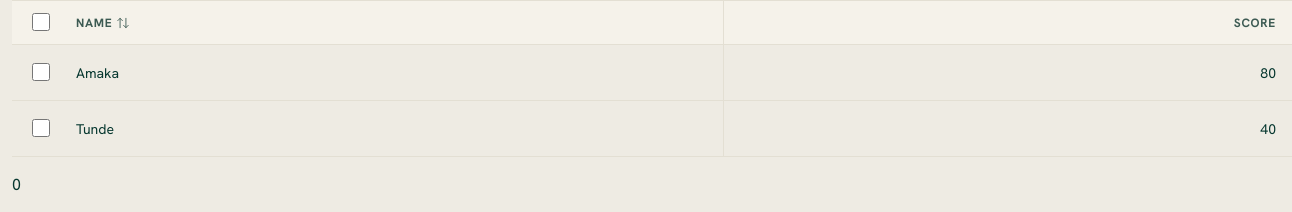
Test: DataTable › selects one row, every row, and none, with labelled tick boxes
What coordinates should you click on to do the following:
click the checkbox named "Select Amaka"
I would click on:
 (41, 72)
Its box is [32,62,50,80].
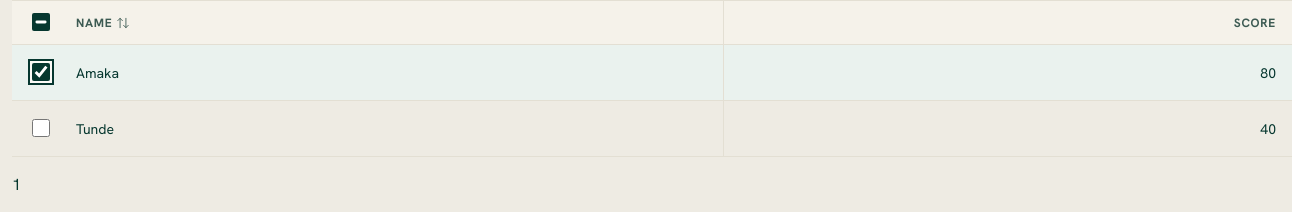
Expected: the text with test id "count" reads "1", [12,174,21,195]
What coordinates should you click on to do the following:
click the checkbox named "Select every row on this page"
I would click on:
 (41, 22)
Its box is [32,13,50,31].
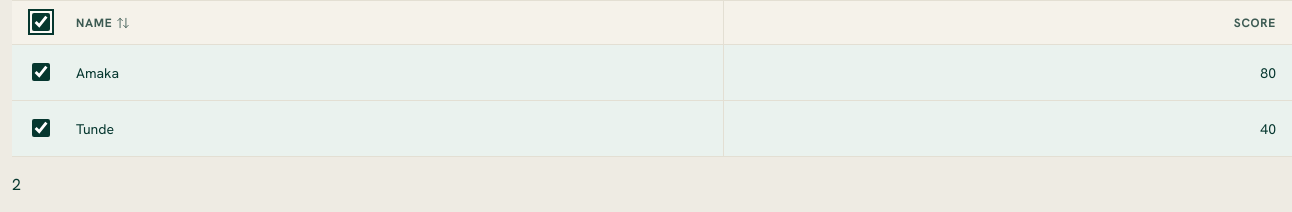
Expected: the text with test id "count" reads "2", [12,174,21,195]
What coordinates should you click on to do the following:
click the checkbox named "Select every row on this page"
I would click on:
 (41, 22)
Its box is [32,13,50,31].
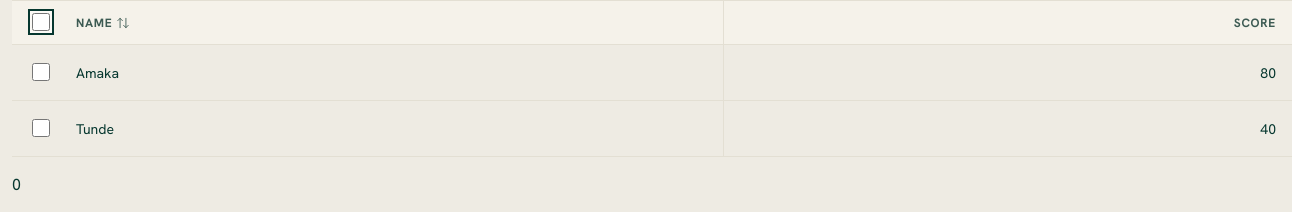
Expected: the text with test id "count" reads "0", [12,174,21,195]
